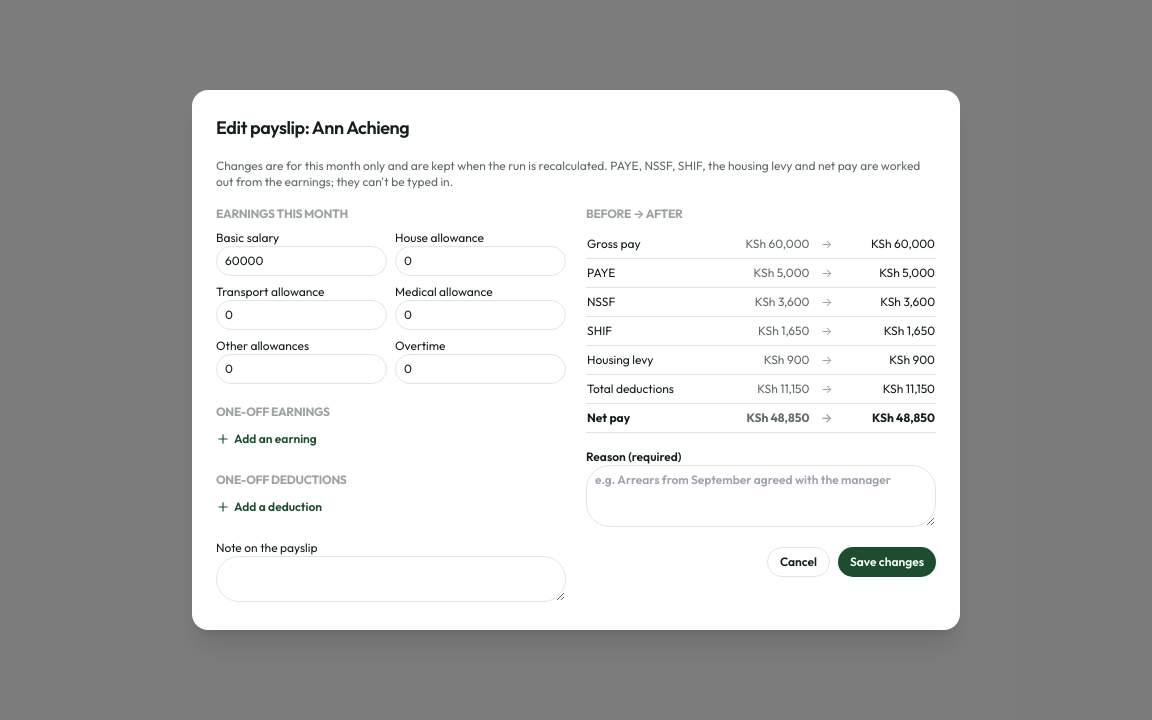
it: PayslipEditModal › one-off deductions need a name and an amount
The width and height of the screenshot is (1152, 720).
Click the button "Add a deduction". click: (269, 507)
box: x1=216 y1=499 x2=322 y2=515
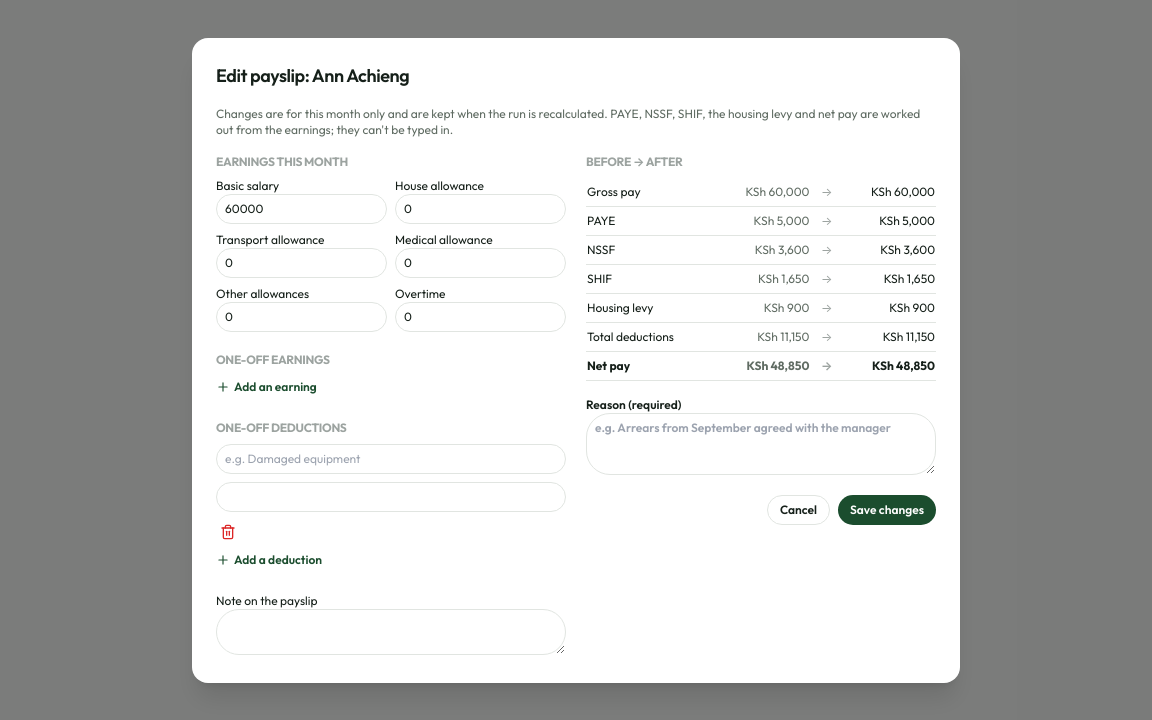
Type "Damaged laptop" into the text box labelled "Reason". click: (761, 444)
box: x1=586 y1=412 x2=936 y2=474
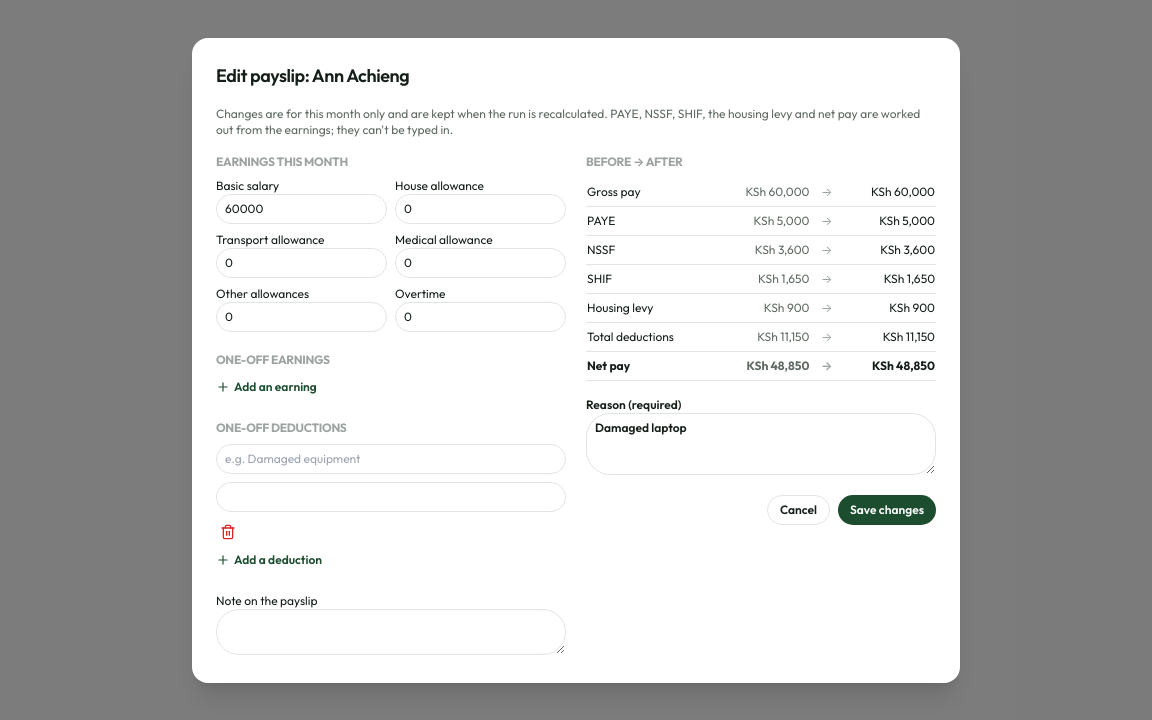
Click the button "Save changes". click: (887, 510)
box: x1=838 y1=494 x2=936 y2=524
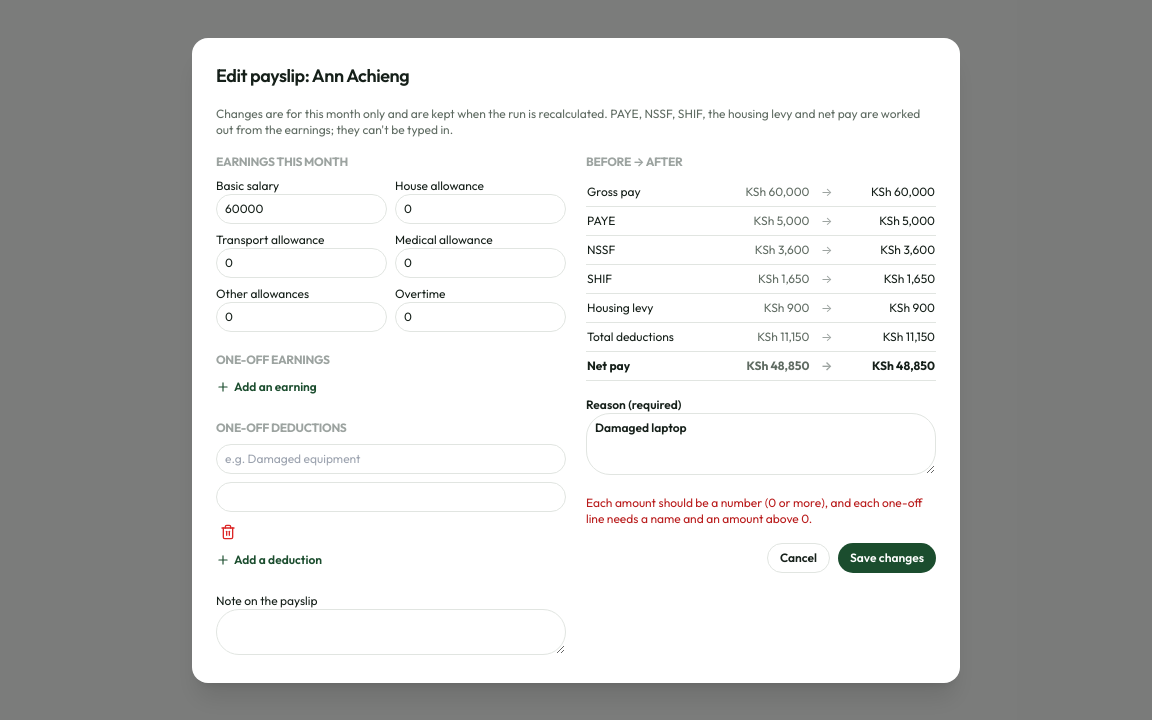
Expected: the message shows "needs a name", x1=586 y1=494 x2=922 y2=526
